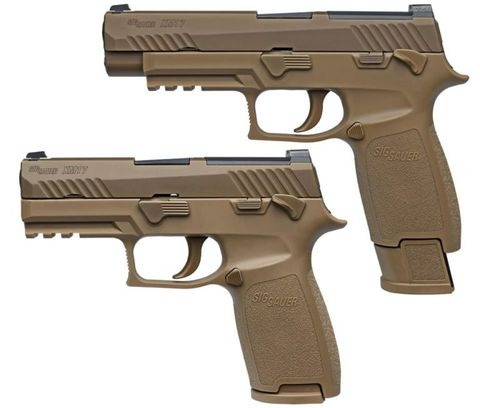gun: (101, 0, 479, 301), (15, 145, 353, 408)
